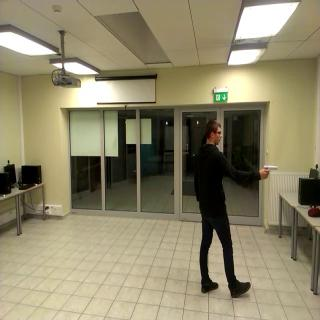gun: (260, 158, 278, 183)
